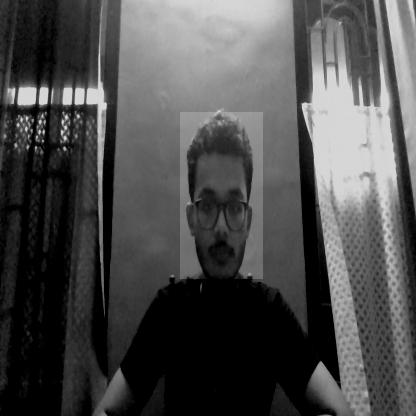Normal: (180, 112, 263, 279)
